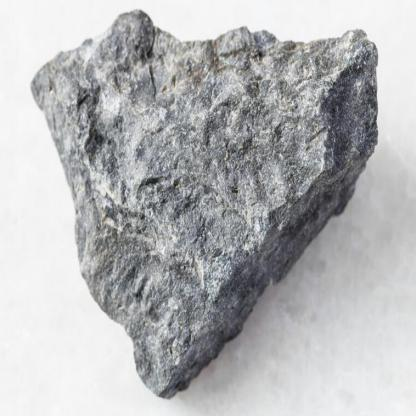Igneous_Basalt: (26, 2, 386, 407)
